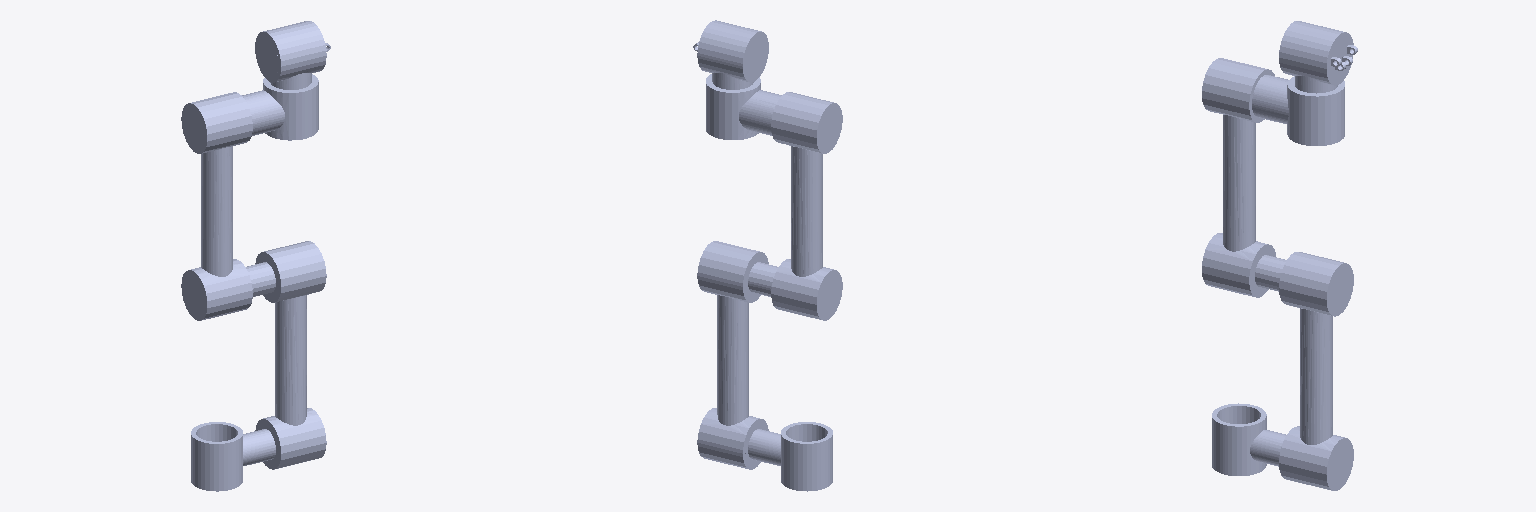
The robot description file, URDF, robot "robotarm1":
<?xml version="1.0" encoding="utf-8"?>
<!-- This URDF was automatically created by SolidWorks to URDF Exporter! Originally created by [author] ([email redacted]) 
     Commit Version: 1.5.1-0-g916b5db  Build Version: 1.5.7152.31018
     For more information, please see http://wiki.ros.org/sw_urdf_exporter -->
<robot
  name="robotarm1">
  <link
    name="base_link">
    <inertial>
      <origin
        xyz="0 0.0943086092715232 -1.96486015514855E-18"
        rpy="0 0 0" />
      <mass
        value="5.6925658883047" />
      <inertia
        ixx="0.0253978911460265"
        ixy="-8.47850573713574E-35"
        ixz="0"
        iyy="0.0263516791783112"
        iyz="1.20023891917138E-34"
        izz="0.0253978911460265" />
    </inertial>
    <visual>
      <origin
        xyz="0 0 0"
        rpy="0 0 0" />
      <geometry>
        <mesh
          filename="package://robotarm1/meshes/base_link.STL" />
      </geometry>
      <material
        name="">
        <color
          rgba="0.792156862745098 0.819607843137255 0.933333333333333 1" />
      </material>
    </visual>
    <collision>
      <origin
        xyz="0 0 0"
        rpy="0 0 0" />
      <geometry>
        <mesh
          filename="package://robotarm1/meshes/base_link.STL" />
      </geometry>
    </collision>
  </link>
  <link
    name="Link_1">
    <inertial>
      <origin
        xyz="0.0994051462871014 0.0499999999560493 1.61421868932957E-08"
        rpy="0 0 0" />
      <mass
        value="0.968515917956123" />
      <inertia
        ixx="0.00101098741855169"
        ixy="-4.24067273865609E-12"
        ixz="8.95948128514241E-11"
        iyy="0.00130687061897204"
        iyz="3.92629041664754E-10"
        izz="0.00125061992464247" />
    </inertial>
    <visual>
      <origin
        xyz="0 0 0"
        rpy="0 0 0" />
      <geometry>
        <mesh
          filename="package://robotarm1/meshes/Link_1.STL" />
      </geometry>
      <material
        name="">
        <color
          rgba="0.792156862745098 0.819607843137255 0.933333333333333 1" />
      </material>
    </visual>
    <collision>
      <origin
        xyz="0 0 0"
        rpy="0 0 0" />
      <geometry>
        <mesh
          filename="package://robotarm1/meshes/Link_1.STL" />
      </geometry>
    </collision>
  </link>
  <joint
    name="Joint_1"
    type="continuous">
    <origin
      xyz="0 0 0.1652"
      rpy="1.5708 0 0" />
    <parent
      link="base_link" />
    <child
      link="Link_1" />
    <axis
      xyz="0 1 0" />
  </joint>
  <link
    name="Link_2">
    <inertial>
      <origin
        xyz="0.0499999836856851 0.1755 2.64244421609409E-07"
        rpy="0 0 0" />
      <mass
        value="1.28853409511538" />
      <inertia
        ixx="0.022686909508374"
        ixy="5.64445715793553E-19"
        ixz="3.22100359901118E-09"
        iyy="0.00137829240474618"
        iyz="-3.00514315005634E-19"
        izz="0.0225743861223479" />
    </inertial>
    <visual>
      <origin
        xyz="0 0 0"
        rpy="0 0 0" />
      <geometry>
        <mesh
          filename="package://robotarm1/meshes/Link_2.STL" />
      </geometry>
      <material
        name="">
        <color
          rgba="0.792156862745098 0.819607843137255 0.933333333333333 1" />
      </material>
    </visual>
    <collision>
      <origin
        xyz="0 0 0"
        rpy="0 0 0" />
      <geometry>
        <mesh
          filename="package://robotarm1/meshes/Link_2.STL" />
      </geometry>
    </collision>
  </link>
  <joint
    name="Joint_2"
    type="continuous">
    <origin
      xyz="0.112400000000005 0.0500000000000001 0"
      rpy="0 0 0" />
    <parent
      link="Link_1" />
    <child
      link="Link_2" />
    <axis
      xyz="1 0 0" />
  </joint>
  <link
    name="Link_3">
    <inertial>
      <origin
        xyz="-0.0312000000000064 -1.11022302462516E-16 1.71845661893685E-18"
        rpy="0 0 0" />
      <mass
        value="1.18174149257434" />
      <inertia
        ixx="0.000883642048860509"
        ixy="-1.45583746962657E-35"
        ixz="2.82850736616679E-36"
        iyy="0.00796527652302551"
        iyz="3.26265223399926E-52"
        izz="0.00796527652302551" />
    </inertial>
    <visual>
      <origin
        xyz="0 0 0"
        rpy="0 0 0" />
      <geometry>
        <mesh
          filename="package://robotarm1/meshes/Link_3.STL" />
      </geometry>
      <material
        name="">
        <color
          rgba="0.792156862745098 0.819607843137255 0.933333333333333 1" />
      </material>
    </visual>
    <collision>
      <origin
        xyz="0 0 0"
        rpy="0 0 0" />
      <geometry>
        <mesh
          filename="package://robotarm1/meshes/Link_3.STL" />
      </geometry>
    </collision>
  </link>
  <joint
    name="Joint_3"
    type="continuous">
    <origin
      xyz="0 0.351 0"
      rpy="0 0 0" />
    <parent
      link="Link_2" />
    <child
      link="Link_3" />
    <axis
      xyz="1 0 0" />
  </joint>
  <link
    name="Link_4">
    <inertial>
      <origin
        xyz="-0.0499999884862342 0.175600002581584 2.25121599863398E-07"
        rpy="0 0 0" />
      <mass
        value="1.28909961850142" />
      <inertia
        ixx="0.0227161468686484"
        ixy="6.51842272834614E-10"
        ixz="-3.22480744280282E-09"
        iyy="0.00137854681548726"
        iyz="5.50711970014189E-09"
        izz="0.022603623568969" />
    </inertial>
    <visual>
      <origin
        xyz="0 0 0"
        rpy="0 0 0" />
      <geometry>
        <mesh
          filename="package://robotarm1/meshes/Link_4.STL" />
      </geometry>
      <material
        name="">
        <color
          rgba="0.792156862745098 0.819607843137255 0.933333333333333 1" />
      </material>
    </visual>
    <collision>
      <origin
        xyz="0 0 0"
        rpy="0 0 0" />
      <geometry>
        <mesh
          filename="package://robotarm1/meshes/Link_4.STL" />
      </geometry>
    </collision>
  </link>
  <joint
    name="Joint_4"
    type="continuous">
    <origin
      xyz="-0.0624 0 0"
      rpy="0 0 0" />
    <parent
      link="Link_3" />
    <child
      link="Link_4" />
    <axis
      xyz="1 0 0" />
  </joint>
  <link
    name="Link_5">
    <inertial>
      <origin
        xyz="0.0234778306347505 9.19930254195123E-09 9.67011043676775E-08"
        rpy="0 0 0" />
      <mass
        value="1.20648390273837" />
      <inertia
        ixx="0.00141049786190329"
        ixy="-4.78535096826722E-12"
        ixz="-1.50596997323671E-10"
        iyy="0.00750318533563848"
        iyz="-2.22975998606996E-10"
        izz="0.00738627403646385" />
    </inertial>
    <visual>
      <origin
        xyz="0 0 0"
        rpy="0 0 0" />
      <geometry>
        <mesh
          filename="package://robotarm1/meshes/Link_5.STL" />
      </geometry>
      <material
        name="">
        <color
          rgba="0.792156862745098 0.819607843137255 0.933333333333333 1" />
      </material>
    </visual>
    <collision>
      <origin
        xyz="0 0 0"
        rpy="0 0 0" />
      <geometry>
        <mesh
          filename="package://robotarm1/meshes/Link_5.STL" />
      </geometry>
    </collision>
  </link>
  <joint
    name="Joint_5"
    type="continuous">
    <origin
      xyz="0 0.3512 0"
      rpy="0 0 0" />
    <parent
      link="Link_4" />
    <child
      link="Link_5" />
    <axis
      xyz="1 0 0" />
  </joint>
  <link
    name="Link_6">
    <inertial>
      <origin
        xyz="-4.9498E-08 0.04227 -6.3167E-08"
        rpy="0 0 0" />
      <mass
        value="0.86991" />
      <inertia
        ixx="0.0035583"
        ixy="-3.1891E-12"
        ixz="2.6281E-10"
        iyy="0.0010014"
        iyz="1.2037E-10"
        izz="0.0034916" />
    </inertial>
    <visual>
      <origin
        xyz="0 0 0"
        rpy="0 0 0" />
      <geometry>
        <mesh
          filename="package://robotarm1/meshes/Link_6.STL" />
      </geometry>
      <material
        name="">
        <color
          rgba="0.79216 0.81961 0.93333 1" />
      </material>
    </visual>
    <collision>
      <origin
        xyz="0 0 0"
        rpy="0 0 0" />
      <geometry>
        <mesh
          filename="package://robotarm1/meshes/Link_6.STL" />
      </geometry>
    </collision>
  </link>
  <joint
    name="Joint_6"
    type="continuous">
    <origin
      xyz="0.1124 0 0"
      rpy="0 0 0" />
    <parent
      link="Link_5" />
    <child
      link="Link_6" />
    <axis
      xyz="0 1 0" />
  </joint>
  <link
    name="Link_7">
    <inertial>
      <origin
        xyz="0.000716655966196411 2.22044604925031E-16 -1.31626348897381E-14"
        rpy="0 0 0" />
      <mass
        value="0.509047523656065" />
      <inertia
        ixx="0.000402319698175284"
        ixy="-9.86797416637627E-21"
        ixz="-5.53015793098966E-22"
        iyy="0.000620169294447699"
        iyz="1.27626649220071E-21"
        izz="0.000620258587978795" />
    </inertial>
    <visual>
      <origin
        xyz="0 0 0"
        rpy="0 0 0" />
      <geometry>
        <mesh
          filename="package://robotarm1/meshes/Link_7.STL" />
      </geometry>
      <material
        name="">
        <color
          rgba="0.792156862745098 0.819607843137255 0.933333333333333 1" />
      </material>
    </visual>
    <collision>
      <origin
        xyz="0 0 0"
        rpy="0 0 0" />
      <geometry>
        <mesh
          filename="package://robotarm1/meshes/Link_7.STL" />
      </geometry>
    </collision>
  </link>
  <joint
    name="Joint_7"
    type="continuous">
    <origin
      xyz="0 0.1124 0"
      rpy="0 0 0" />
    <parent
      link="Link_6" />
    <child
      link="Link_7" />
    <axis
      xyz="1 0 0" />
  </joint>
  <link
    name="Catcher_Upper">
    <inertial>
      <origin
        xyz="0.064058 -7.4252E-15 -0.018405"
        rpy="0 0 0" />
      <mass
        value="0.13937" />
      <inertia
        ixx="0.00027751"
        ixy="-2.0114E-19"
        ixz="8.5336E-05"
        iyy="0.00027332"
        iyz="-1.4067E-19"
        izz="0.00036142" />
    </inertial>
    <visual>
      <origin
        xyz="0 0 0"
        rpy="0 0 0" />
      <geometry>
        <mesh
          filename="package://robotarm1/meshes/Catcher_Upper.STL" />
      </geometry>
      <material
        name="">
        <color
          rgba="0.79216 0.81961 0.93333 1" />
      </material>
    </visual>
    <collision>
      <origin
        xyz="0 0 0"
        rpy="0 0 0" />
      <geometry>
        <mesh
          filename="package://robotarm1/meshes/Catcher_Upper.STL" />
      </geometry>
    </collision>
  </link>
  <joint
    name="Catcher_Joint_Upper"
    type="continuous">
    <origin
      xyz="0.0600000000000074 0.00750000000000006 0"
      rpy="-1.57079632679487 0 0" />
    <parent
      link="Link_7" />
    <child
      link="Catcher_Upper" />
    <axis
      xyz="0 1 0" />
  </joint>
  <link
    name="Catcher_Lower">
    <inertial>
      <origin
        xyz="0.070333 4.1621E-15 -0.020445"
        rpy="0 0 0" />
      <mass
        value="0.087826" />
      <inertia
        ixx="7.1124E-05"
        ixy="2.6429E-19"
        ixz="4.8468E-05"
        iyy="0.00015249"
        iyz="-2.5974E-19"
        izz="9.8708E-05" />
    </inertial>
    <visual>
      <origin
        xyz="0 0 0"
        rpy="0 0 0" />
      <geometry>
        <mesh
          filename="package://robotarm1/meshes/Catcher_Lower.STL" />
      </geometry>
      <material
        name="">
        <color
          rgba="0.79216 0.81961 0.93333 1" />
      </material>
    </visual>
    <collision>
      <origin
        xyz="0 0 0"
        rpy="0 0 0" />
      <geometry>
        <mesh
          filename="package://robotarm1/meshes/Catcher_Lower.STL" />
      </geometry>
    </collision>
  </link>
  <joint
    name="Catcher_Joint_Lower"
    type="continuous">
    <origin
      xyz="0.0600000000000073 -0.00750000000000006 0"
      rpy="1.57079632679492 0 0" />
    <parent
      link="Link_7" />
    <child
      link="Catcher_Lower" />
    <axis
      xyz="0 1 0" />
  </joint>
</robot>

--- Facts derived from the render (not from the file) ---
The picture shows the robot from 3 angles, left to right: view 1: azimuth 30°, elevation 25°; view 2: azimuth 150°, elevation 25°; view 3: azimuth 330°, elevation 25°; orthographic projection.
Robot: robotarm1 — 10 links, 9 joints (9 continuous); root link base_link; default pose: all joints at 0.
Visible links, largest first — view 1: Link_4, Link_2, Link_1, Link_5, Link_6, Link_3, Link_7; view 2: Link_4, Link_2, Link_1, Link_5, Link_6, Link_3, Link_7; view 3: Link_2, Link_4, Link_1, Link_5, Link_6, Link_3, Link_7.
Boxes of the visible links, x1,y1,x2,y2 form: Link_4: [181, 92, 252, 320]; Link_2: [255, 241, 326, 469]; Link_1: [191, 422, 278, 491]; Link_5: [184, 74, 318, 148]; Link_6: [255, 21, 326, 89]; Link_3: [184, 257, 278, 315]; Link_7: [258, 37, 330, 77]; Link_4: [771, 92, 842, 320]; Link_2: [697, 241, 768, 469]; Link_1: [745, 422, 832, 491]; Link_5: [706, 74, 839, 148]; Link_6: [697, 20, 768, 89]; Link_3: [745, 257, 839, 315]; Link_7: [693, 37, 765, 76]; Link_2: [1279, 252, 1353, 490]; Link_4: [1202, 58, 1275, 297]; Link_1: [1212, 403, 1350, 485]; Link_5: [1252, 75, 1344, 145]; Link_6: [1279, 21, 1353, 93]; Link_3: [1252, 250, 1350, 310]; Link_7: [1329, 38, 1357, 79].
Size in the robot's own frame: 0.2799 by 0.1063 by 0.9145 metres.
7 mesh visuals loaded from 10 distinct referenced files (7 binary STL); not drawn: 3 (reference not matched to a file when rendering).